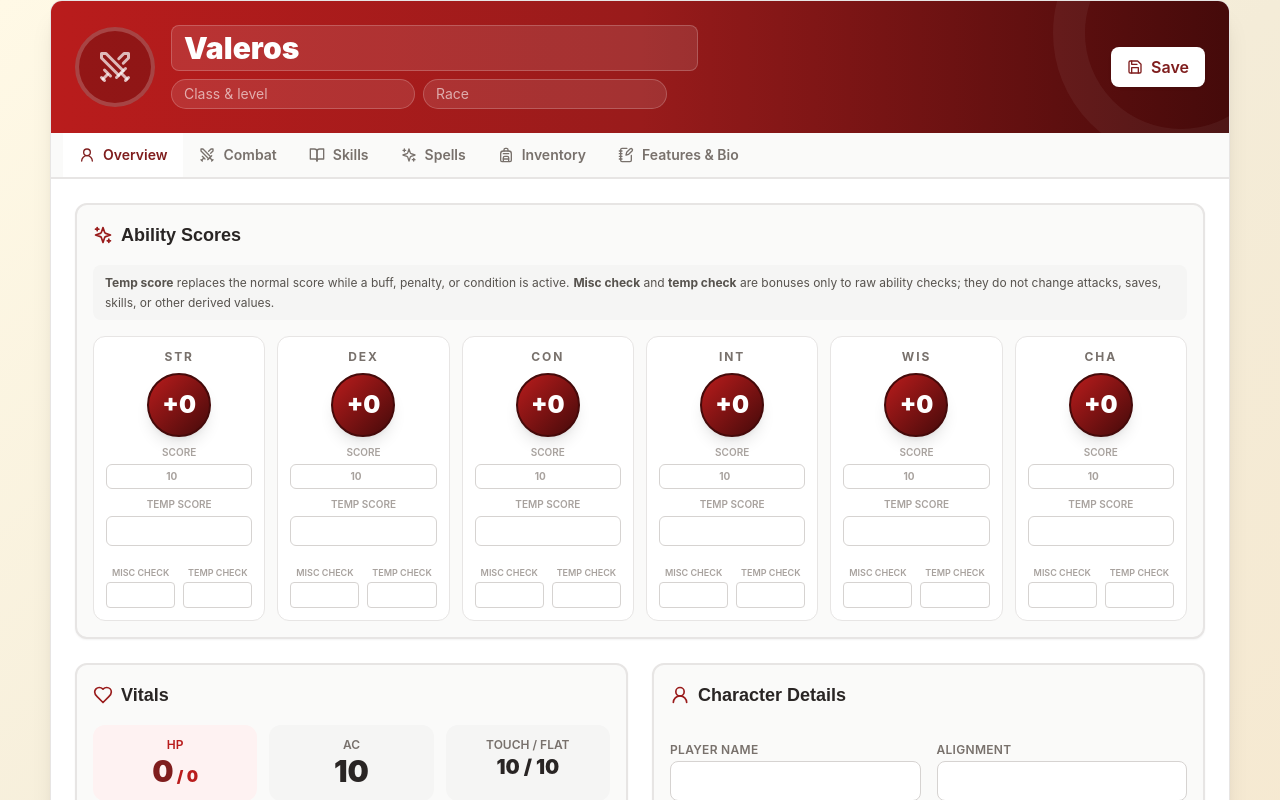
Test: Pathfinder1eCharacterSheet › keeps an input focused while typing multiple characters
In the field named "Character name": (434, 48) [171,25,698,71], type " Test"
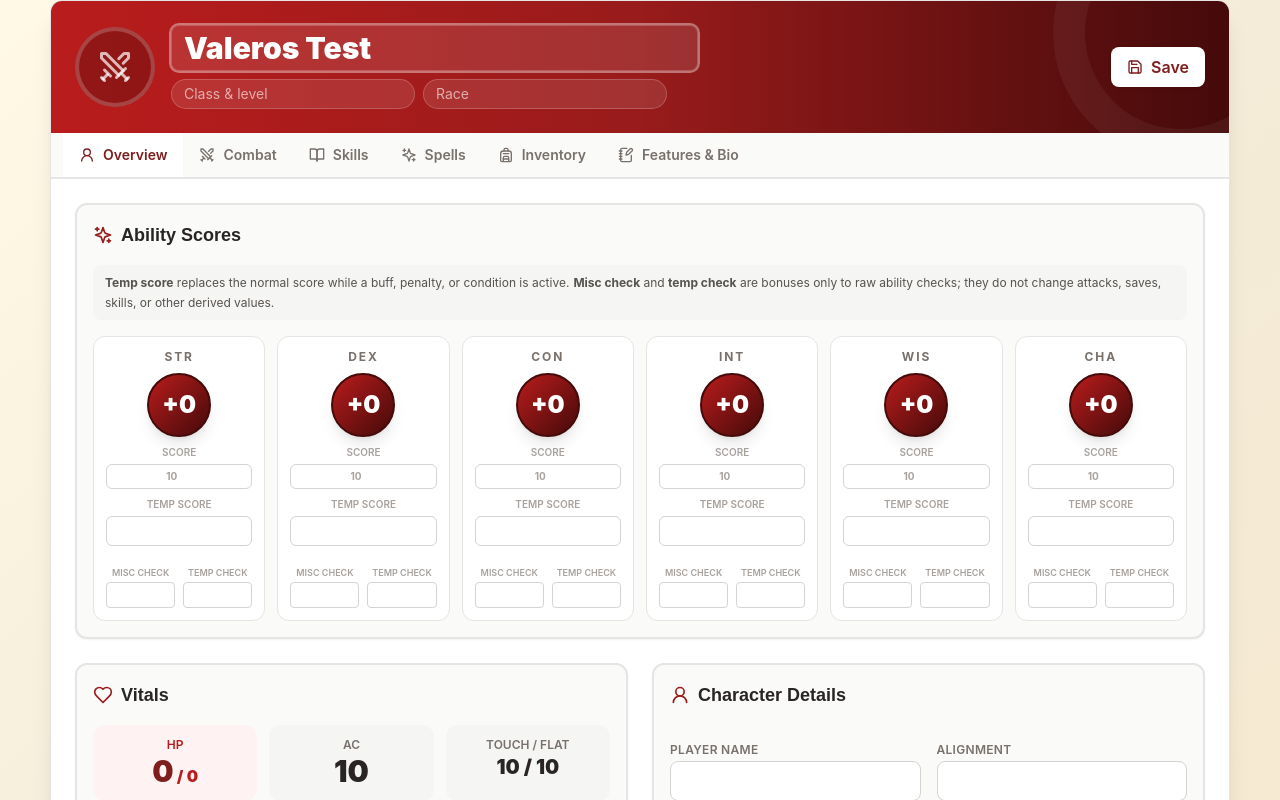
Result: the field named "Character name" holds "Valeros Test" at [171,25,698,71]
